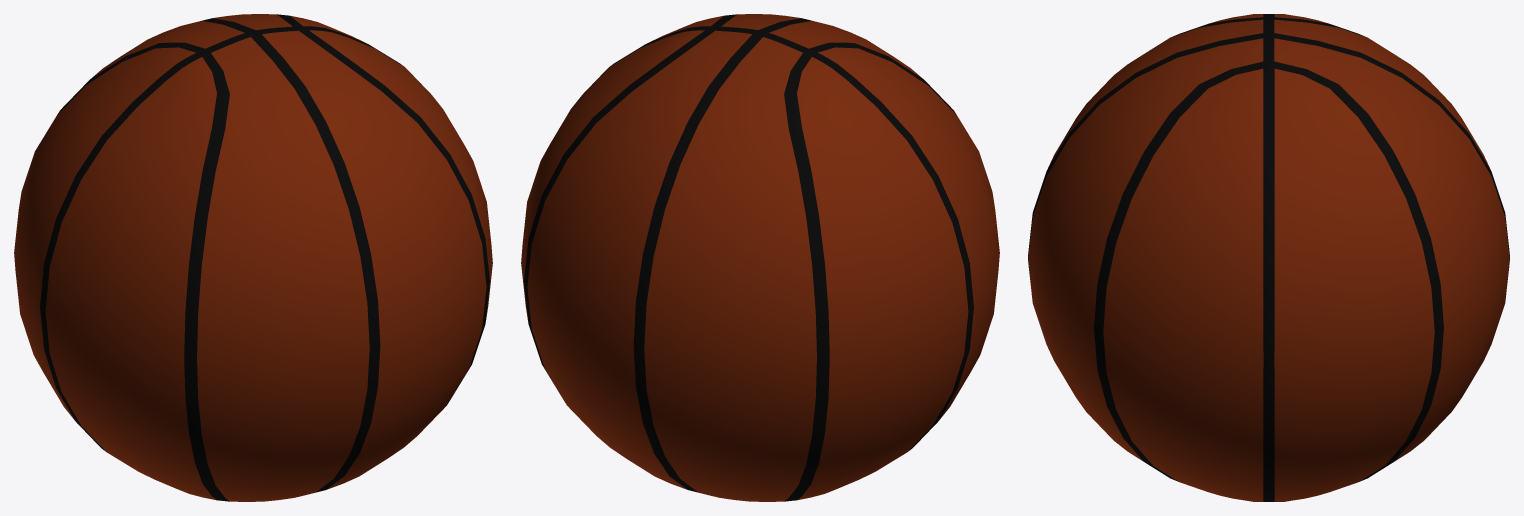
File: Basketball .fbx
3 views of the same model, side by side, from view 1: azimuth 30°, elevation 25°; view 2: azimuth 150°, elevation 25°; view 3: azimuth 270°, elevation 25° (orthographic).
Visible parts, largest first — view 1: Sphere; view 2: Sphere; view 3: Sphere.
Boxes of the visible parts, box(x1,y1,x2,y2) form: Sphere: box(14, 14, 492, 501); Sphere: box(521, 14, 999, 501); Sphere: box(1028, 14, 1509, 501).
Bounding box in the file's own units: 97.65 × 99.37 × 97.58.
